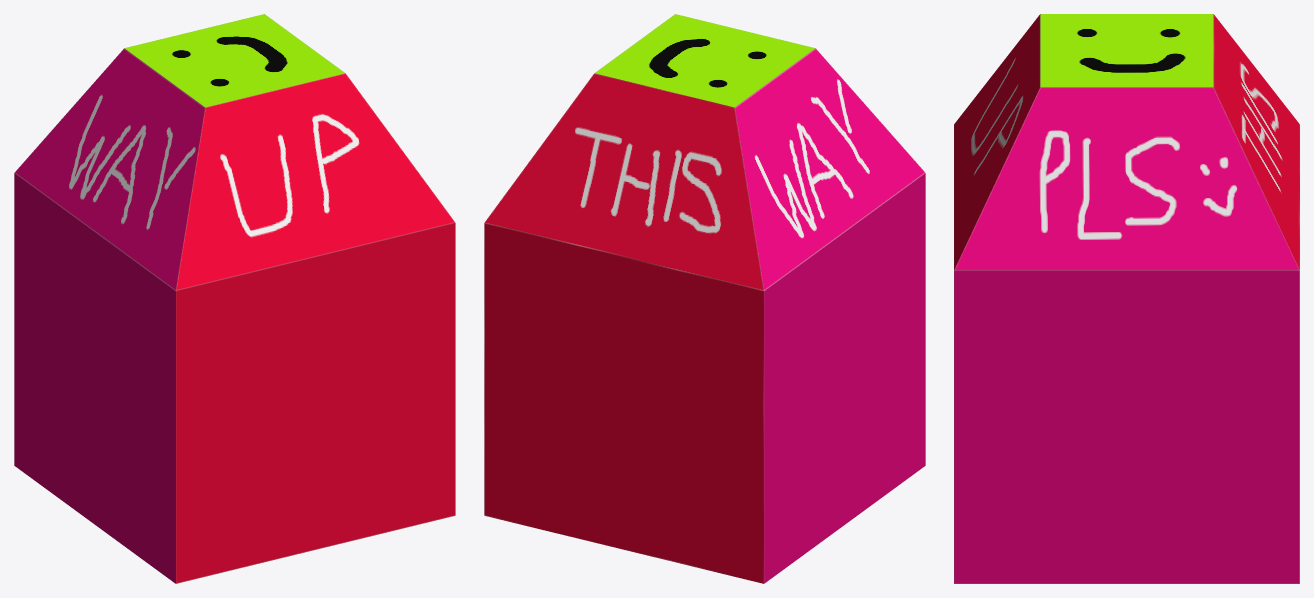
Rendered from CrapAsset.fbx.
3 renders of one model, left to right at view 1: azimuth 30°, elevation 25°; view 2: azimuth 150°, elevation 25°; view 3: azimuth 270°, elevation 25°, orthographic. The views are drawn at different scales.
Visible parts, largest first — view 1: pCube1; view 2: pCube1; view 3: pCube1.
Boxes of the visible parts, x1,y1,x2,y2 form: pCube1: (14,14,455,583); pCube1: (484,14,925,583); pCube1: (954,14,1299,583).
Size of the model in its own units: 1 by 1.47 by 1.
